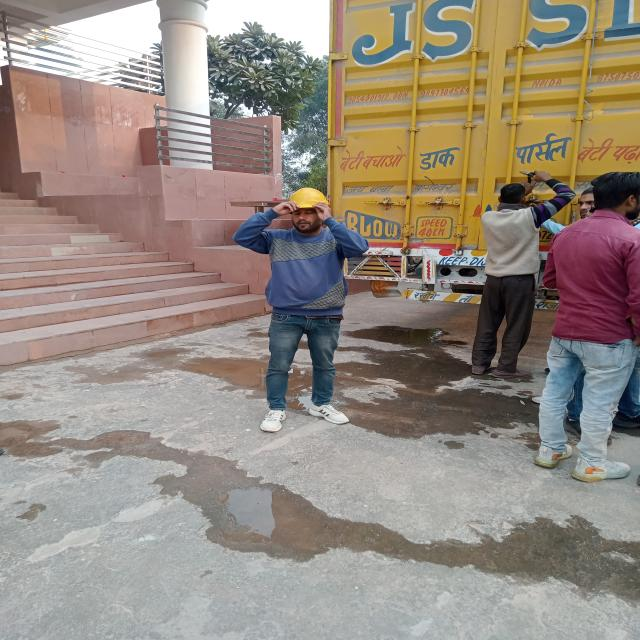no jacket: (231, 177, 368, 440)
unsafe: (538, 169, 640, 485), (456, 172, 545, 380)
